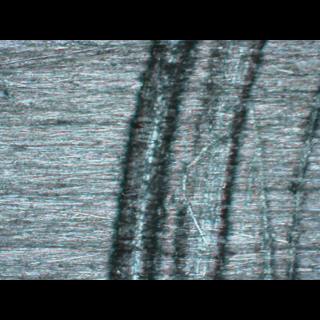d: (101, 39, 311, 279)
